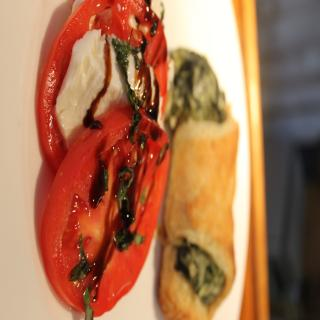tomato: (39, 100, 170, 320), (36, 0, 166, 170)
